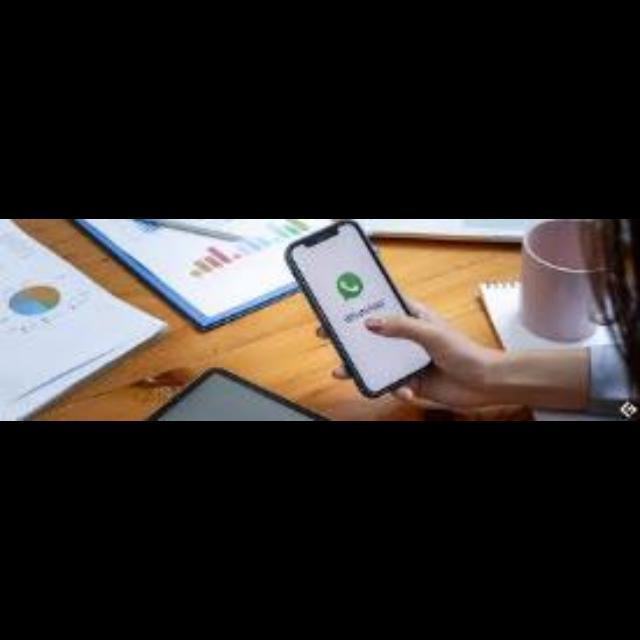phone: (274, 214, 480, 405)
